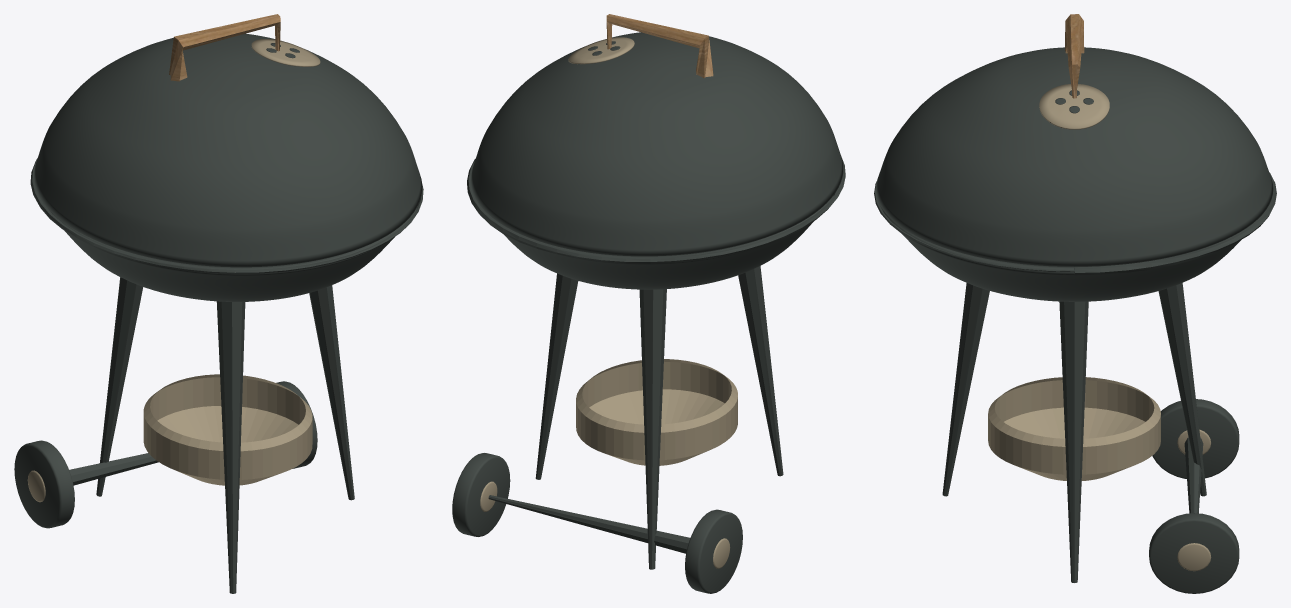
The model's file is kettle-bbq.glb.
3 views of the same model, side by side, from view 1: azimuth 30°, elevation 25°; view 2: azimuth 150°, elevation 25°; view 3: azimuth 270°, elevation 25° (orthographic). The views are drawn at different scales.
Visible parts, largest first — view 1: catalog_surface_RealismUV; view 2: catalog_surface_RealismUV; view 3: catalog_surface_RealismUV.
Boxes of the visible parts, x1=… form: catalog_surface_RealismUV: x1=14, y1=14, x2=423, y2=593; catalog_surface_RealismUV: x1=452, y1=14, x2=845, y2=593; catalog_surface_RealismUV: x1=874, y1=14, x2=1276, y2=593.
Size of the model in its own units: 0.65 by 0.95 by 0.7.
3 materials, 1 textured.
